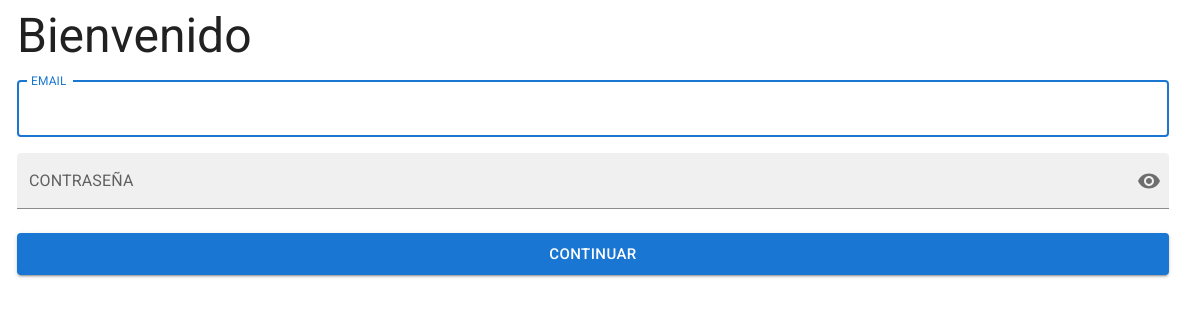
Login Page › show validation error if email is empty
Type "password" into the password field labelled "CONTRASEÑA".
click(569, 181); type("password")  # box [17,153,1121,209]
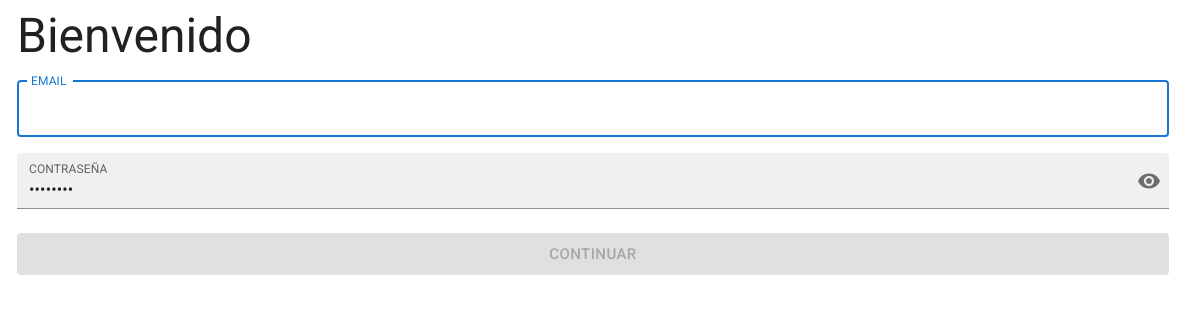
Press Tab
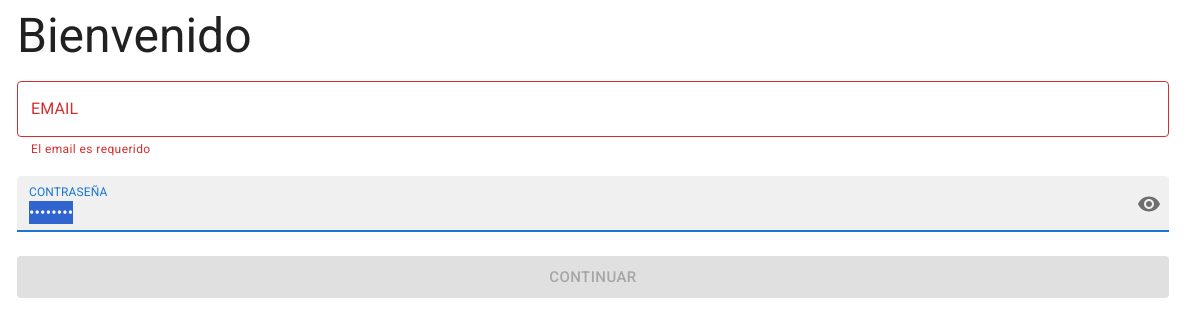
Expected: the button "Continuar" is disabled, [17,256,1169,298]
Expected: the text "El email es requerido" is shown, [31,142,151,156]
